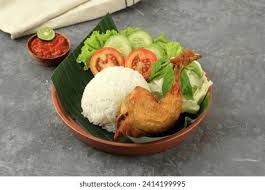Ayam goreng: (112, 48, 204, 142)
Nasi putih: (81, 65, 131, 128)
